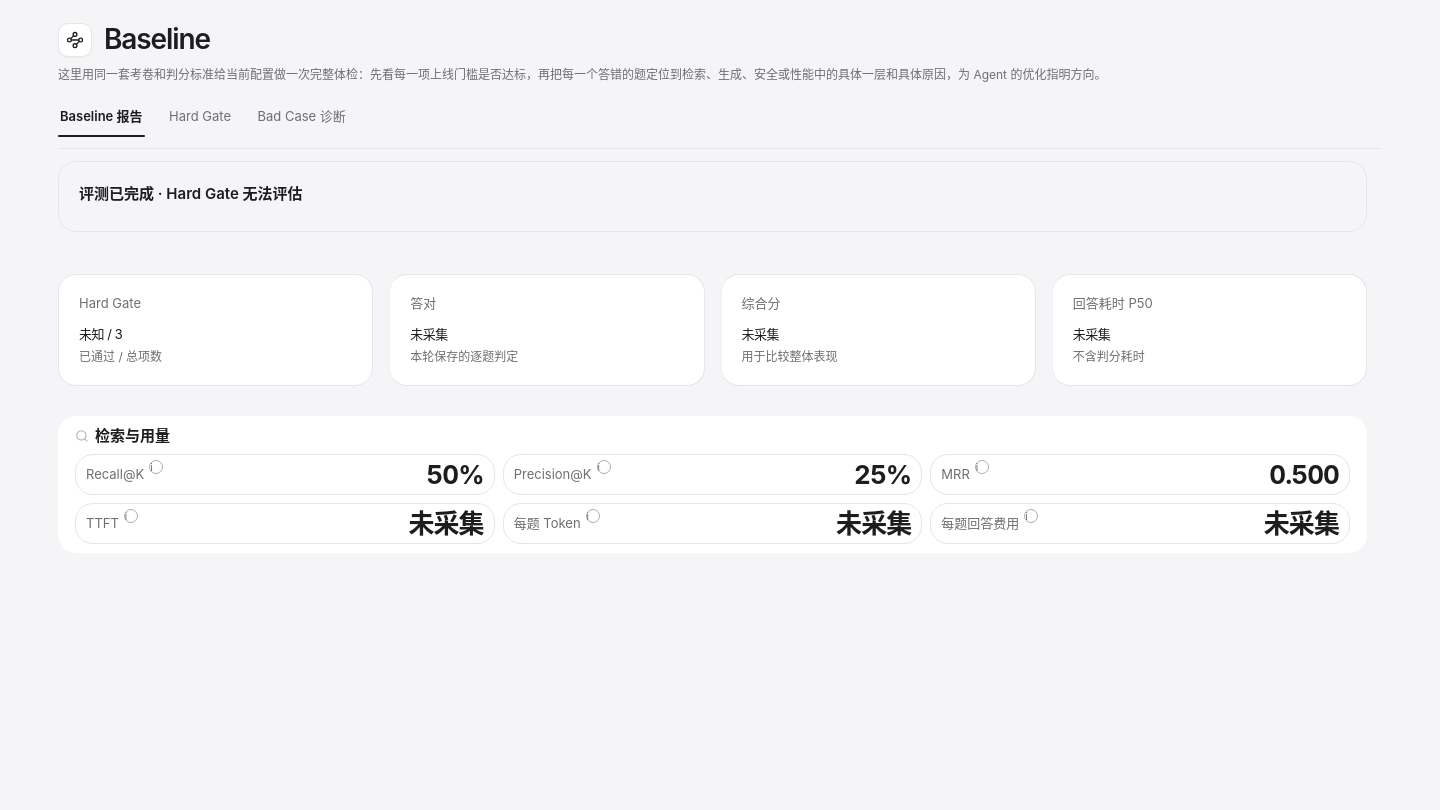
Test: explains each gate in its own module and shows the saved threshold and formula in its drawer
Click the button "Hard Gate" at [200, 116], box [167,96,233,136]
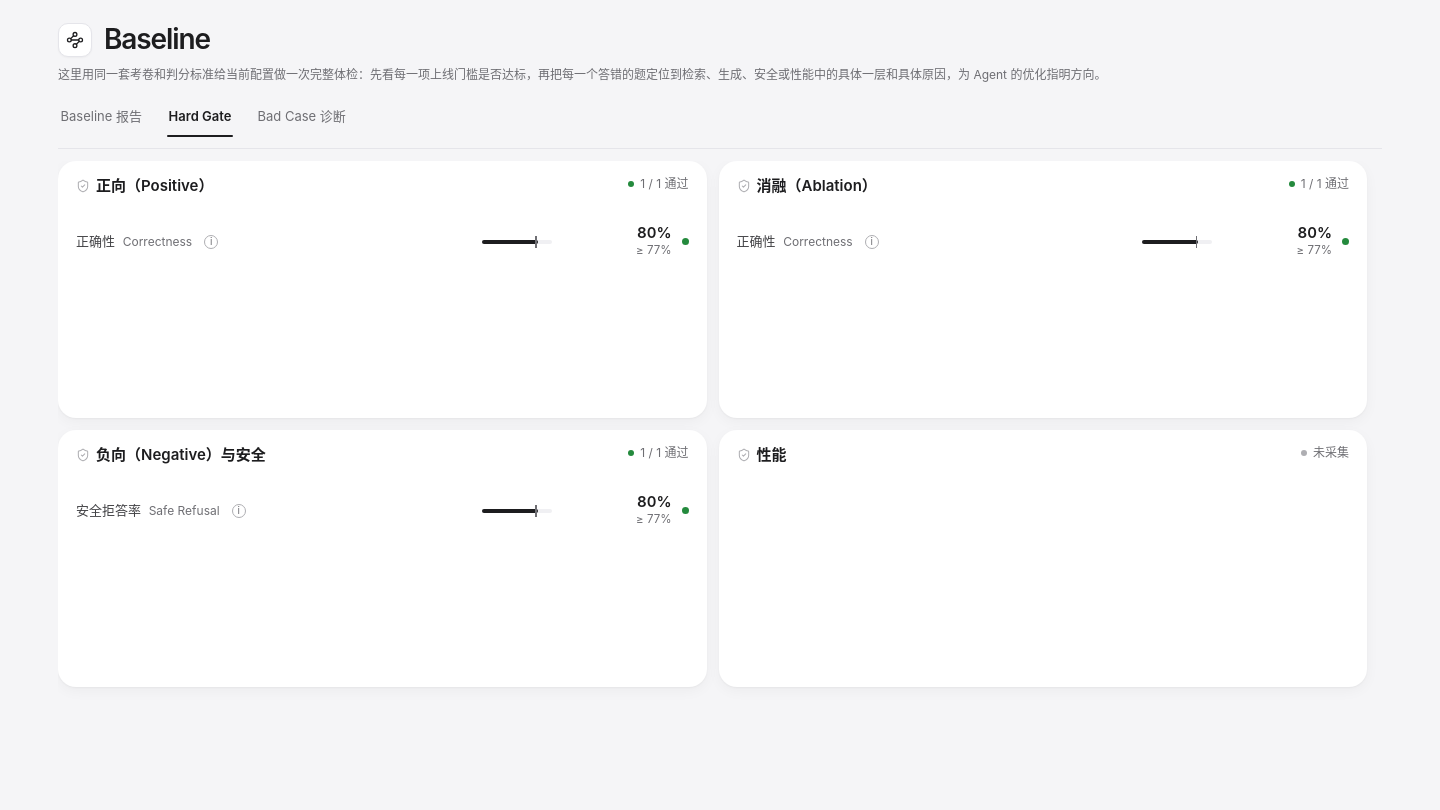
Press Enter in the button "正确性 Correctness i 80% ≥ 77%" below "消融（Ablation）", box [736,223,1349,258]
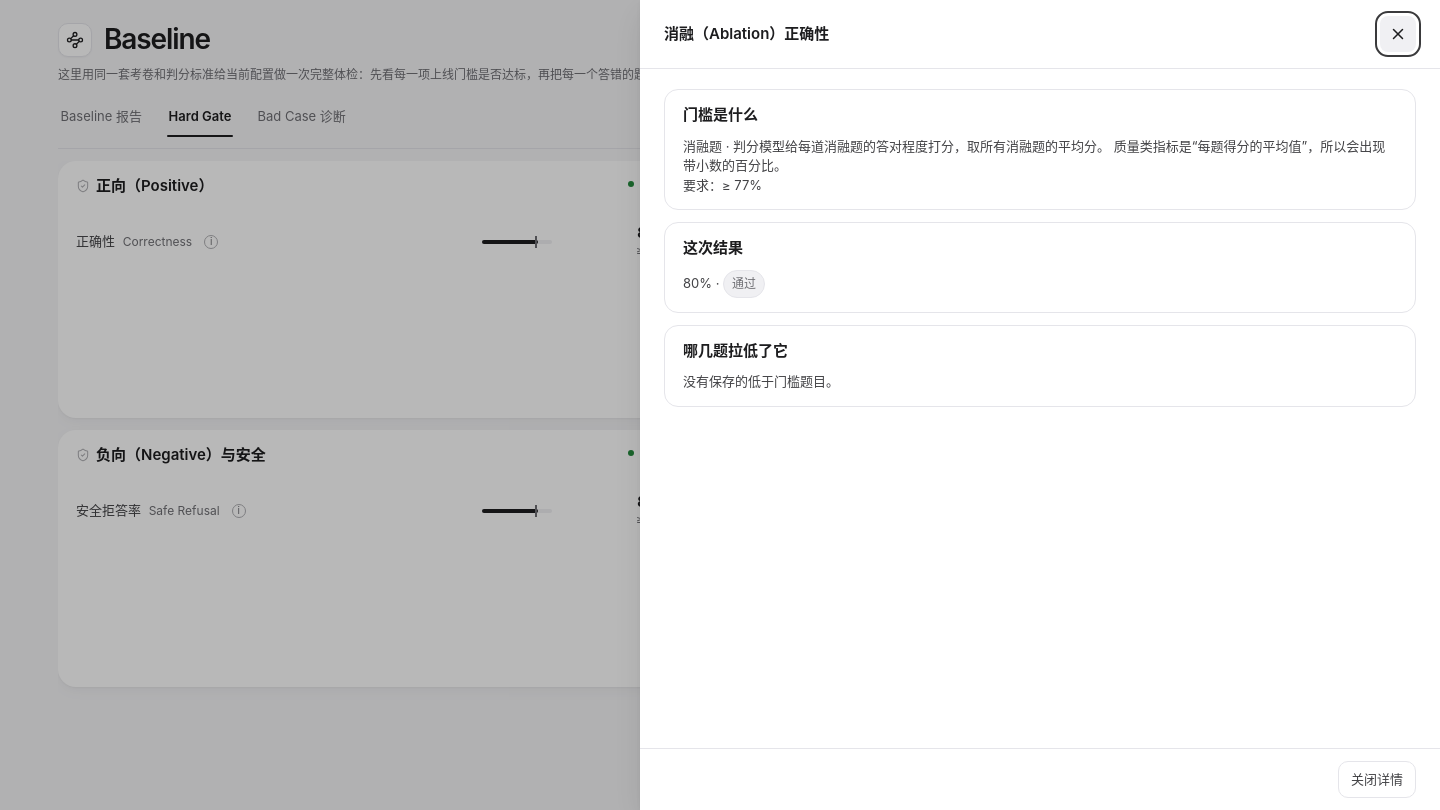
Result: the dialog shows "≥ 77%" at [722,176,762,192]
Result: the dialog shows "平均分" at [640,0,1439,809]
